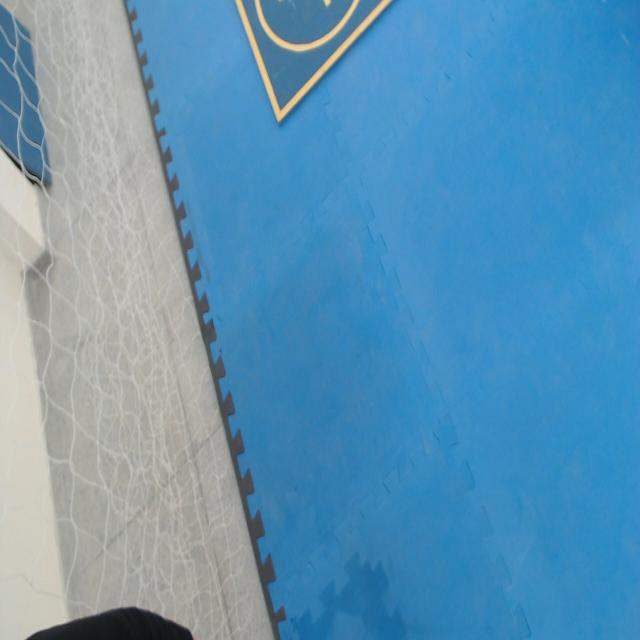base_pouso: (233, 0, 396, 124)
